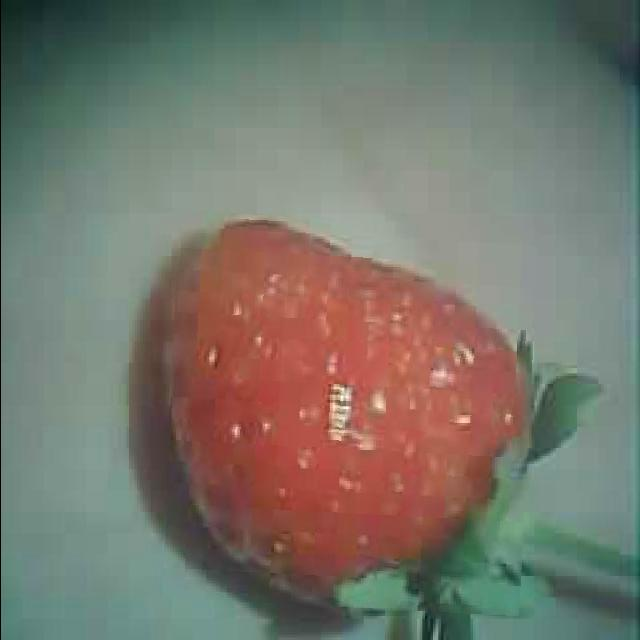strawberry: (163, 214, 533, 611)
